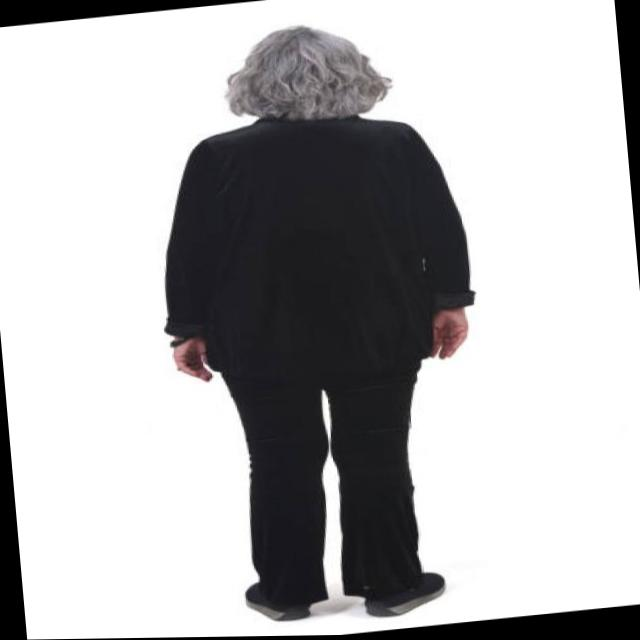no helmet: (205, 12, 404, 144)
